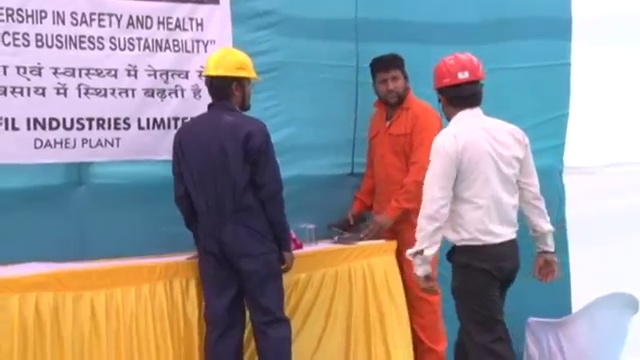helmet: (428, 50, 488, 89), (200, 47, 263, 82)
helmet_off: (370, 53, 413, 110)
helmet_on: (427, 50, 490, 124), (199, 47, 264, 114)
person: (413, 50, 561, 360), (167, 47, 296, 360), (348, 52, 451, 360)
